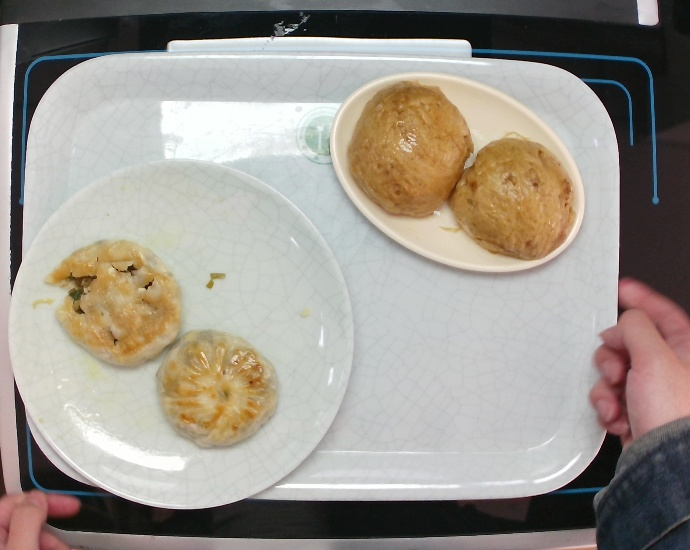JYsf-Da_Yuan_Pan: (1, 150, 365, 517)
JYsf-Tuo_Yuan_Wan: (325, 66, 593, 280)
